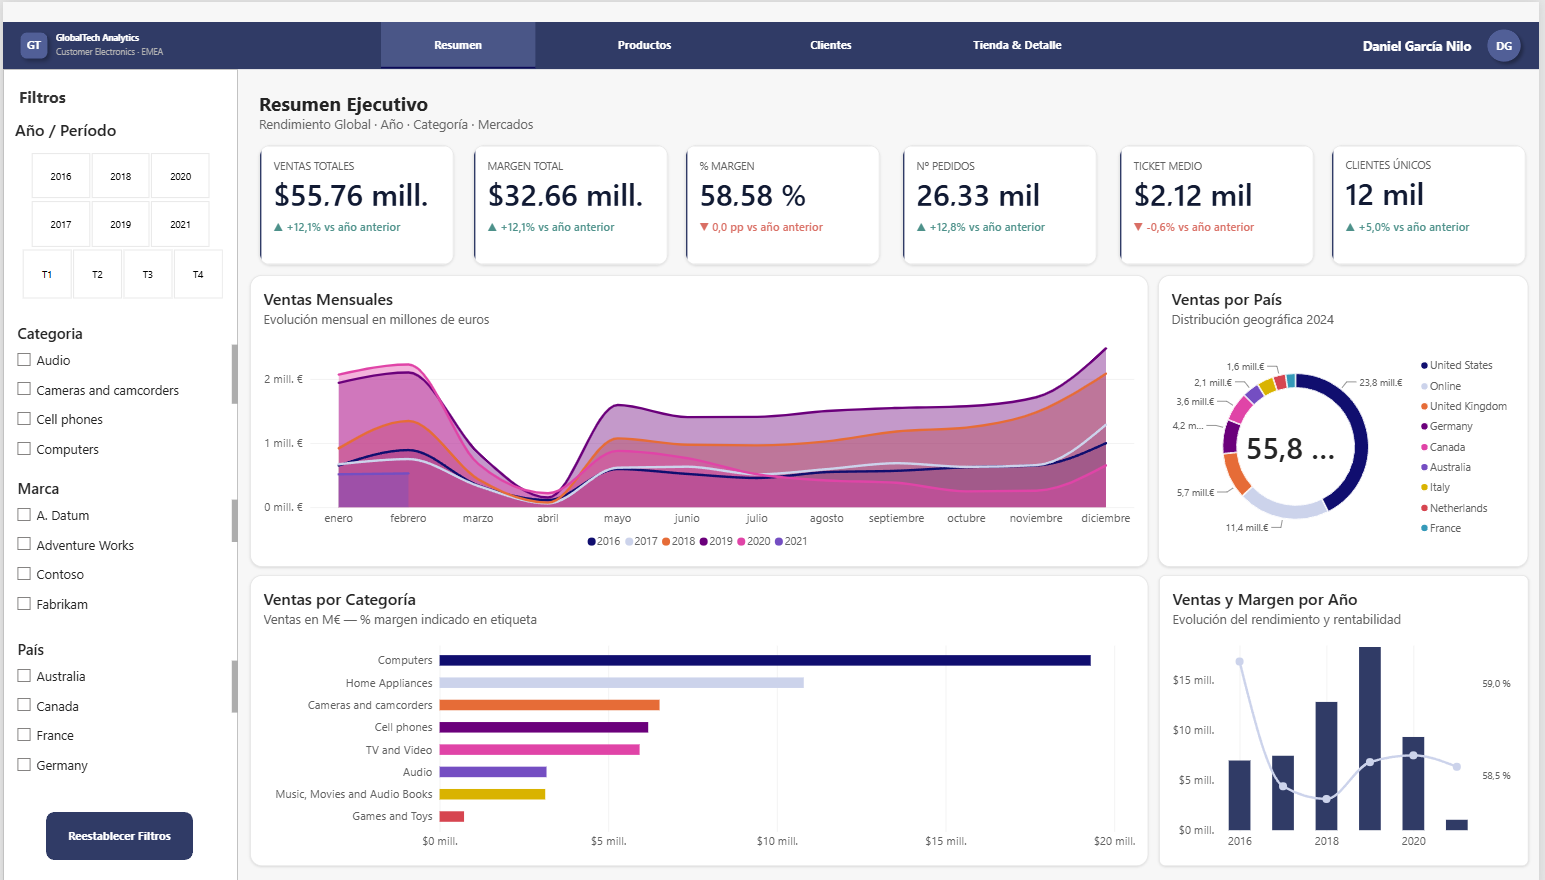

Layout of this report page (visuals, bound fields, positions):
{"tool":"powerbi","page":{"name":"Resumen","canvas":[1920,1080],"ordinal":0},"visuals":[{"type":"cardVisual","fields":{"Data":["Medidas.Total_Ventas"]},"box":[320,153.8,244,150],"z":0},{"type":"shape","box":[0,0,1920,58.9],"z":1000},{"type":"shape","box":[10.9,2.5,54.8,53.8],"z":2000},{"type":"textbox","box":[19.7,20.3,37.3,17.7],"z":3000},{"type":"textbox","box":[65.8,10,144.1,55.9],"z":4000},{"type":"shape","box":[1846.7,0,60,58.7],"z":5000},{"type":"textbox","box":[1700,18.8,150,22.5],"z":6000},{"type":"shape","title":"Filtros","box":[0,59,293.7,1021],"z":7000},{"type":"actionButton","box":[53.8,987.5,183.8,60],"z":8000},{"type":"slicer","title":"Año / Período","fields":{"Values":["DIM_Calendario.Año"]},"box":[0,120,277.2,162.8],"z":9000},{"type":"slicer","fields":{"Values":["DIM_Calendario.Trimestre"]},"box":[4.3,282.6,289.6,64.8],"z":10000},{"type":"slicer","fields":{"Values":["DIM_Productos.Categoria"]},"box":[0,376.2,293.8,175],"z":11000},{"type":"slicer","fields":{"Values":["DIM_Productos.Marca"]},"box":[0,570,293.8,175],"z":12000},{"type":"slicer","title":"Pais","fields":{"Values":["DIM_Tiendas.PaisTienda"]},"box":[0,771.4,293.8,175],"z":13000},{"type":"cardVisual","fields":{"Data":["Medidas.Margen_Total"]},"box":[587.8,153.3,244,150],"z":14000},{"type":"cardVisual","fields":{"Data":["Medidas.Pct_Margen"]},"box":[852.9,153.3,244,150],"z":15000},{"type":"cardVisual","fields":{"Data":["Medidas.Num_Pedidos"]},"box":[1123.8,153.3,244,150],"z":16000},{"type":"cardVisual","fields":{"Data":["Medidas.Ticket_Medio"]},"box":[1394.7,153.3,244,150],"z":17000},{"type":"areaChart","title":"Ventas Mensuales","fields":{"Category":["DIM_Calendario.Mes"],"Series":["DIM_Calendario.Año"],"Y":["Medidas.Total_Ventas"]},"box":[309.4,315.9,1122.8,364.5],"z":18000},{"type":"barChart","title":"Ventas por Categoría","fields":{"Category":["DIM_Productos.Categoria"],"Series":["DIM_Productos.Categoria"],"Y":["Medidas.Total_Ventas"]},"box":[308.9,691.1,1123.3,364.4],"z":19000},{"type":"donutChart","title":"Ventas por País","fields":{"Category":["DIM_Tiendas.PaisTienda"],"Y":["Medidas.Total_Ventas"]},"box":[1444.1,315.9,463,364.5],"z":20000},{"type":"lineStackedColumnComboChart","title":"Ventas y Margen por Año","fields":{"Category":["DIM_Calendario.Año"],"Y":["Medidas.Total_Ventas"],"Y2":["Medidas.Pct_Margen"]},"box":[1444.4,691.1,462,364],"z":21000},{"type":"cardVisual","fields":{"Data":["Medidas.Clientes_Unicos"]},"box":[1660,153.3,244,150],"z":22000},{"type":"textbox","box":[320,85,522,143],"z":23000},{"type":"pageNavigator","box":[472.2,0,895.6,58.9],"z":24000}]}

Visuals, with their boxes in screenshot pixels (x1, y1, x2, y2), scaled from the page's 1920x1080 canvas onto the 1545x880 screenshot:
cardVisual - Medidas.Total_Ventas: 258, 125, 454, 248
shape: 0, 0, 1544, 48
shape: 9, 2, 53, 46
textbox: 16, 17, 46, 31
textbox: 53, 8, 169, 54
shape: 1486, 0, 1534, 48
textbox: 1368, 15, 1489, 34
"Filtros" shape: 0, 48, 236, 879
actionButton: 43, 805, 191, 854
"Año / Período" slicer: 0, 98, 223, 230
slicer - DIM_Calendario.Trimestre: 3, 230, 236, 283
slicer - DIM_Productos.Categoria: 0, 307, 236, 449
slicer - DIM_Productos.Marca: 0, 464, 236, 607
"Pais" slicer: 0, 629, 236, 771
cardVisual - Medidas.Margen_Total: 473, 125, 669, 247
cardVisual - Medidas.Pct_Margen: 686, 125, 883, 247
cardVisual - Medidas.Num_Pedidos: 904, 125, 1101, 247
cardVisual - Medidas.Ticket_Medio: 1122, 125, 1319, 247
"Ventas Mensuales" areaChart: 249, 257, 1152, 554
"Ventas por Categoría" barChart: 249, 563, 1152, 860
"Ventas por País" donutChart: 1162, 257, 1535, 554
"Ventas y Margen por Año" lineStackedColumnComboChart: 1162, 563, 1534, 860
cardVisual - Medidas.Clientes_Unicos: 1336, 125, 1532, 247
textbox: 258, 69, 678, 186
pageNavigator: 380, 0, 1101, 48
